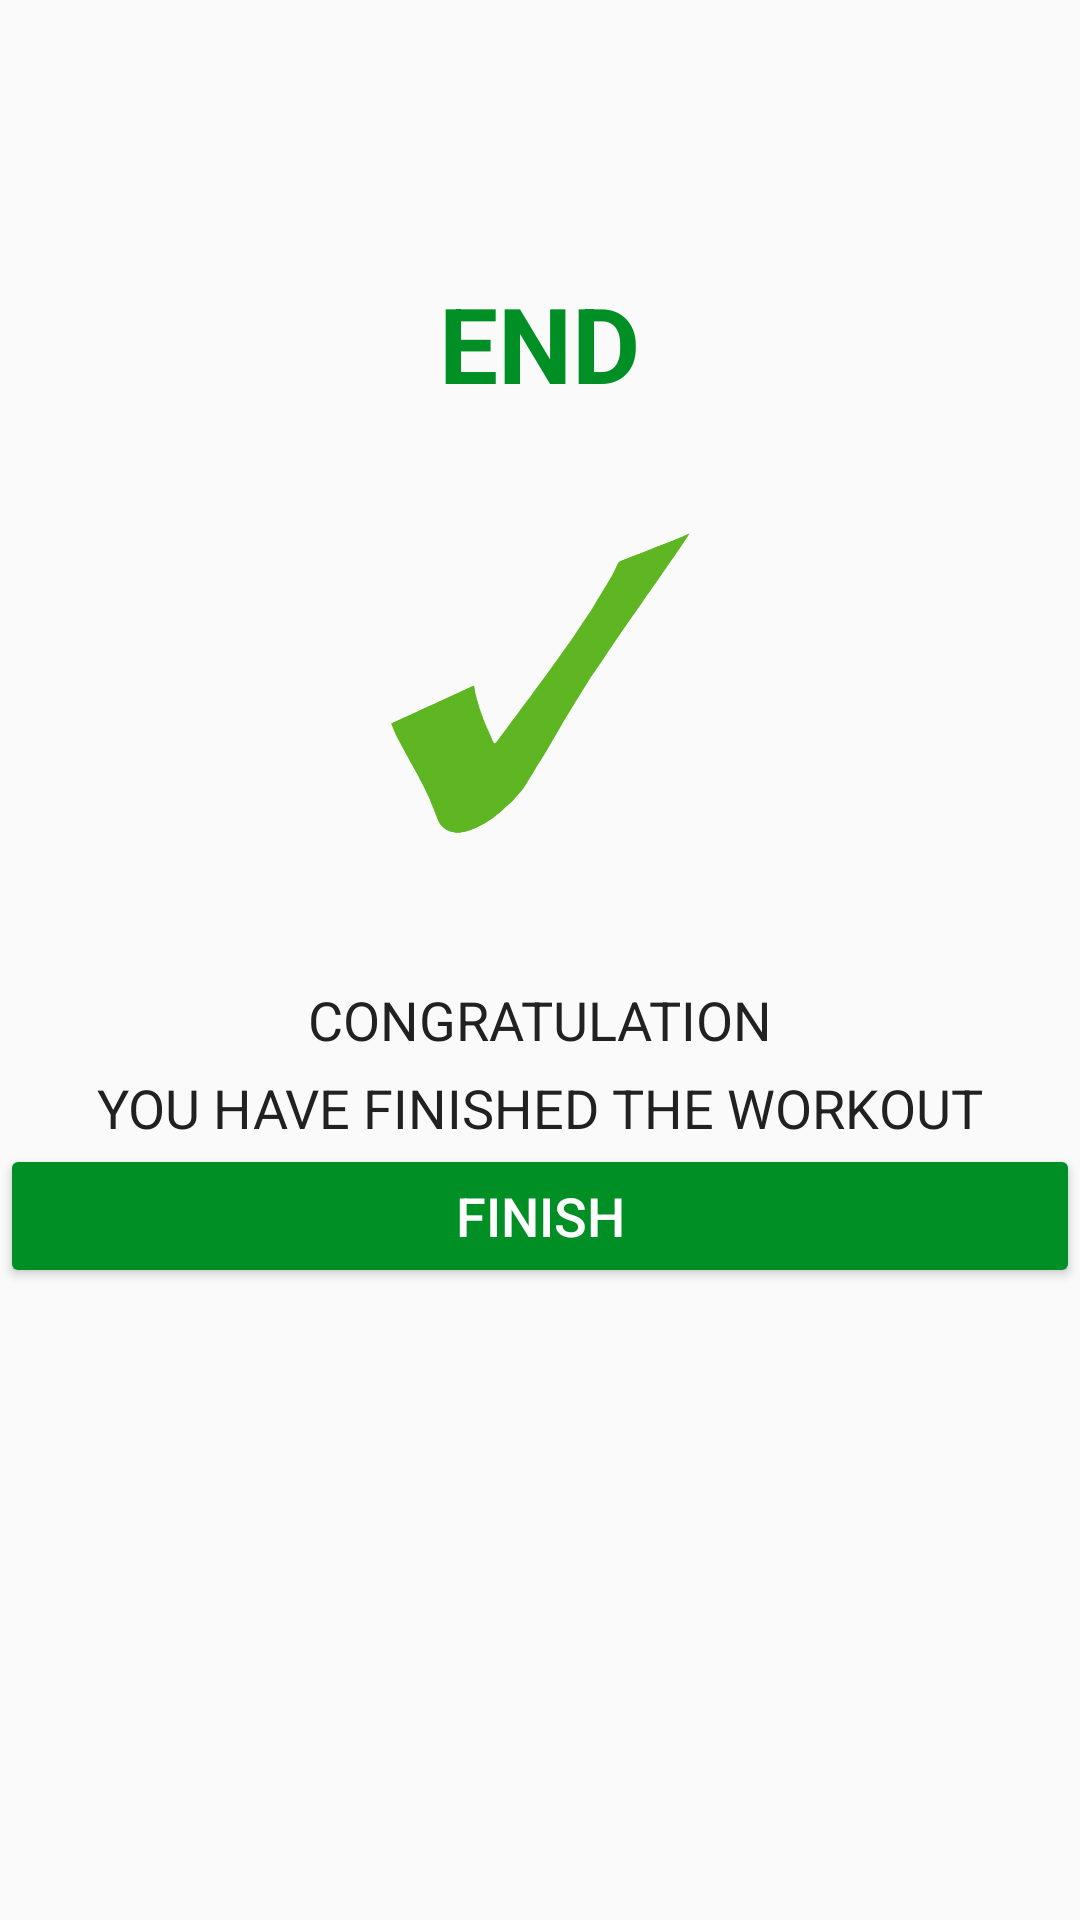

Icon click points for this 1080 × 1920 phone screenshot, format [x,y]:
tick: [540,683]
